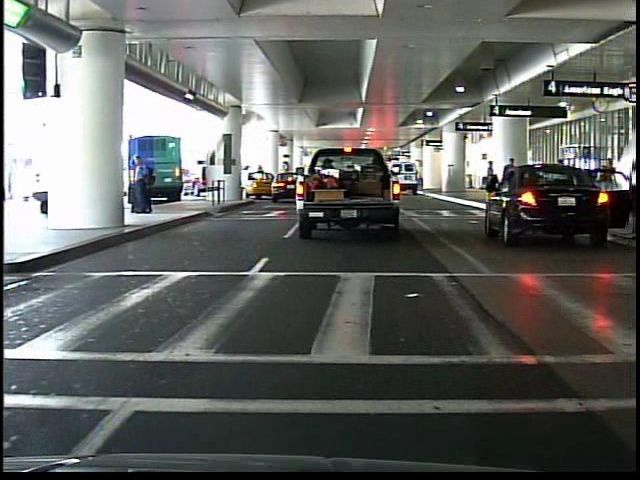person: (129, 152, 156, 217)
